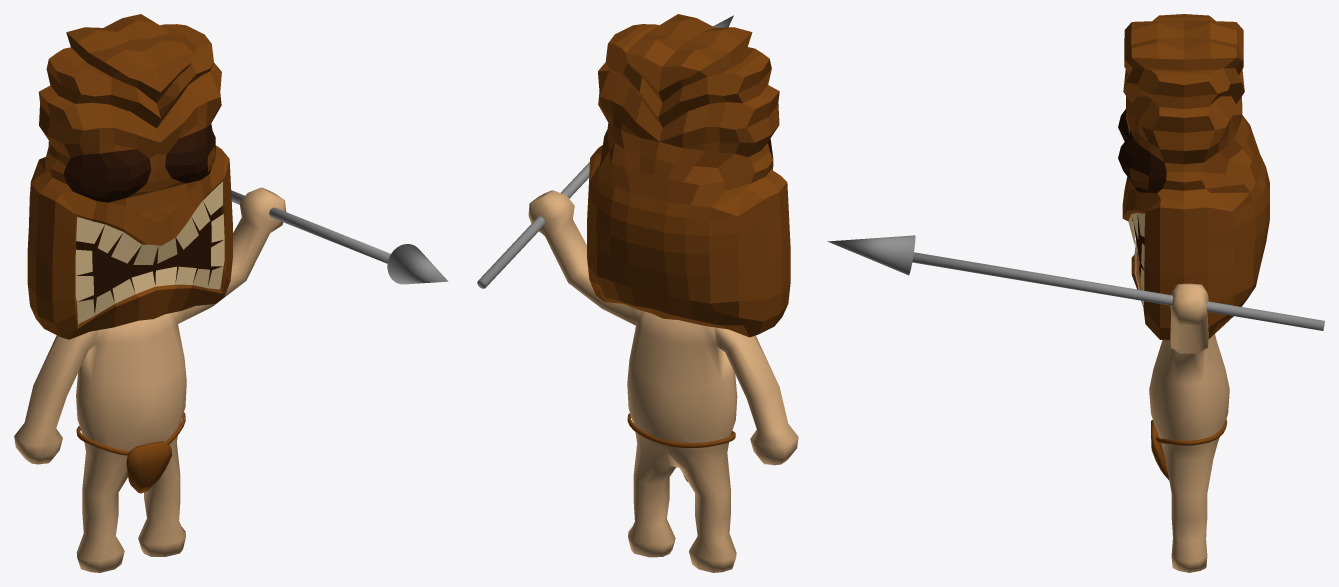
The model's file is tikitiki.fbx.
3 renders of one model, left to right at view 1: azimuth 30°, elevation 25°; view 2: azimuth 150°, elevation 25°; view 3: azimuth 270°, elevation 25°, orthographic.
Visible parts, largest first — view 1: Tikitikimann; view 2: Tikitikimann; view 3: Tikitikimann.
Part boxes in pixels (x1=…): Tikitikimann: x1=14, y1=14, x2=448, y2=572; Tikitikimann: x1=477, y1=14, x2=798, y2=572; Tikitikimann: x1=827, y1=14, x2=1324, y2=572.
Bounding box in the file's own units: 2.24 × 4.28 × 3.75.
